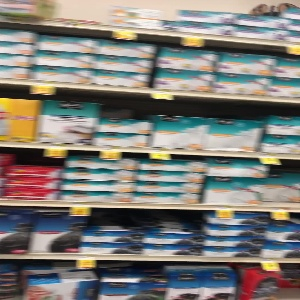void: (46, 1, 105, 25)
